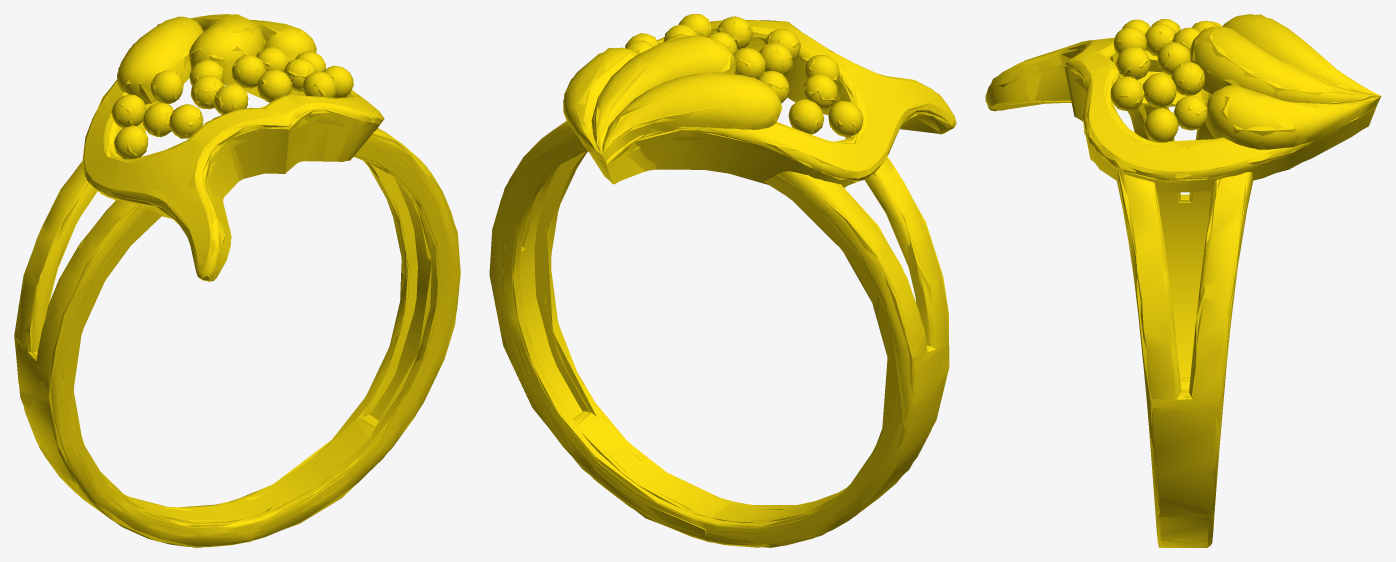
Rendered from GLR-D000705681.glb.
The picture shows the model from 3 angles, left to right: view 1: azimuth 30°, elevation 25°; view 2: azimuth 150°, elevation 25°; view 3: azimuth 270°, elevation 25°; orthographic projection. The views are drawn at different scales.
Parts seen in each view (by area): view 1: highPolyMesh, lowPolyMesh; view 2: highPolyMesh, lowPolyMesh; view 3: highPolyMesh, lowPolyMesh.
Boxes of the visible parts, x1,y1,x2,y2 form: highPolyMesh: (16,14,459,547); lowPolyMesh: (14,14,460,547); highPolyMesh: (491,14,955,547); lowPolyMesh: (489,14,956,547); highPolyMesh: (985,14,1380,547); lowPolyMesh: (985,14,1380,547).
Size of the model in its own units: 0.0192 by 0.0219 by 0.0158.
